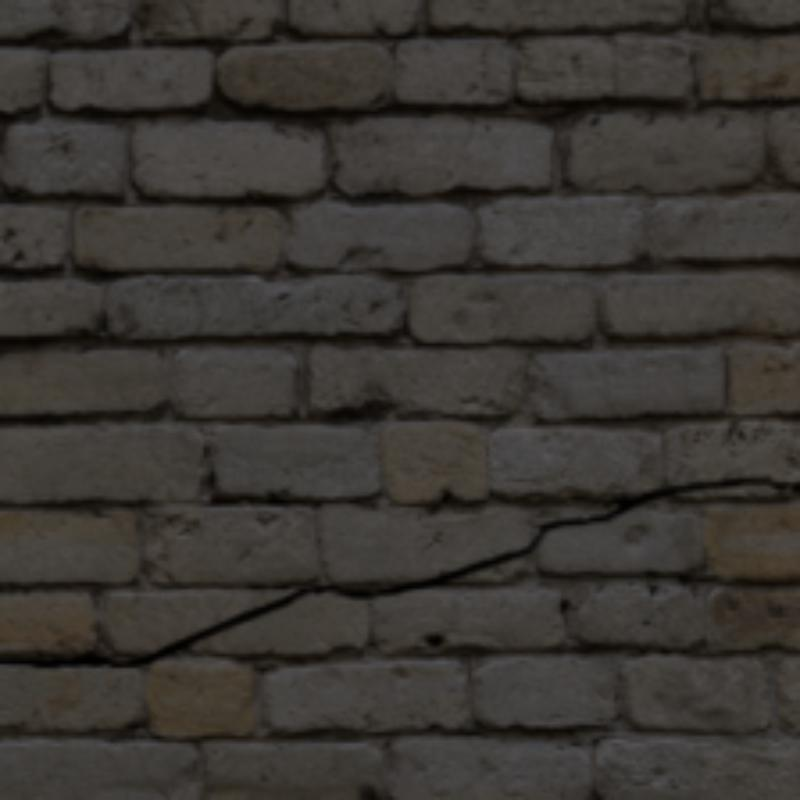crack: (0, 479, 796, 664)
